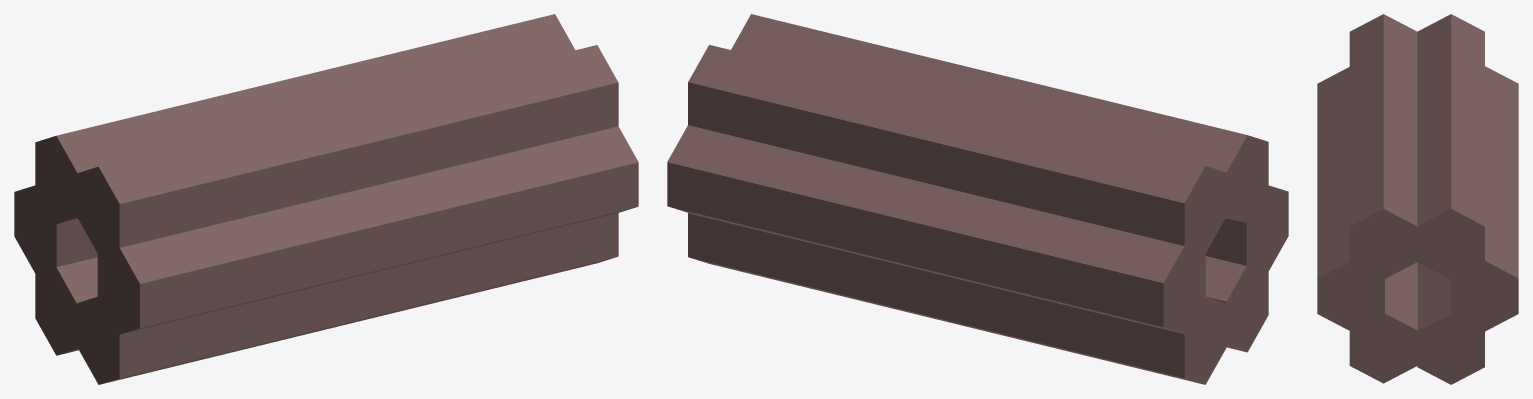
Rendered from kouenn_arm.obj.
3 views of the same model, side by side, from view 1: azimuth 30°, elevation 25°; view 2: azimuth 150°, elevation 25°; view 3: azimuth 270°, elevation 25° (orthographic). The views are drawn at different scales.
Visible parts, largest first — view 1: pasted__pasted__pCylinder3 pasted__group7 group8 pasted__pCylind, pasted__pasted__pCylinder3 pasted__group7 group8 pasted__pasted_, pasted__pasted__pCylinder3 pasted__group7 group8; view 2: pasted__pasted__pCylinder3 pasted__group7 group8 pasted__pasted_, pasted__pasted__pCylinder3 pasted__group7 group8, pasted__pasted__pCylinder3 pasted__group7 group8 pasted__pCylind; view 3: pasted__pasted__pCylinder3 pasted__group7 group8 pasted__pasted_, pasted__pasted__pCylinder3 pasted__group7 group8 pasted__pCylind, pasted__pasted__pCylinder3 pasted__group7 group8.
Part boxes in pixels (x1,y1,x2,y2): pasted__pasted__pCylinder3 pasted__group7 group8 pasted__pCylind: (77, 45, 638, 334); pasted__pasted__pCylinder3 pasted__group7 group8 pasted__pasted_: (35, 14, 618, 384); pasted__pasted__pCylinder3 pasted__group7 group8: (14, 185, 97, 273); pasted__pasted__pCylinder3 pasted__group7 group8 pasted__pasted_: (688, 45, 1268, 384); pasted__pasted__pCylinder3 pasted__group7 group8: (667, 125, 1205, 333); pasted__pasted__pCylinder3 pasted__group7 group8 pasted__pCylind: (731, 14, 1288, 272); pasted__pasted__pCylinder3 pasted__group7 group8 pasted__pasted_: (1349, 14, 1484, 384); pasted__pasted__pCylinder3 pasted__group7 group8 pasted__pCylind: (1317, 14, 1417, 331); pasted__pasted__pCylinder3 pasted__group7 group8: (1451, 66, 1518, 331).
Bounding box in the file's own units: 2.16 × 0.913 × 0.9456.
1 material, 1 textured.
